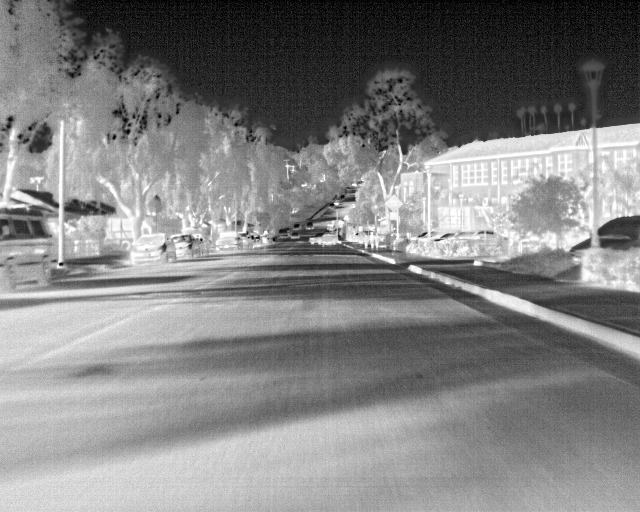car: (0, 206, 56, 296), (601, 216, 637, 255), (128, 234, 175, 263), (449, 230, 510, 249), (166, 234, 200, 260), (215, 232, 243, 255), (429, 230, 460, 245), (414, 228, 445, 243), (568, 235, 589, 255), (308, 230, 338, 243), (245, 232, 267, 247), (275, 225, 290, 240), (201, 236, 212, 255), (301, 218, 314, 230), (290, 228, 303, 240)
